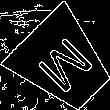M_SE: (29, 29, 97, 97)
